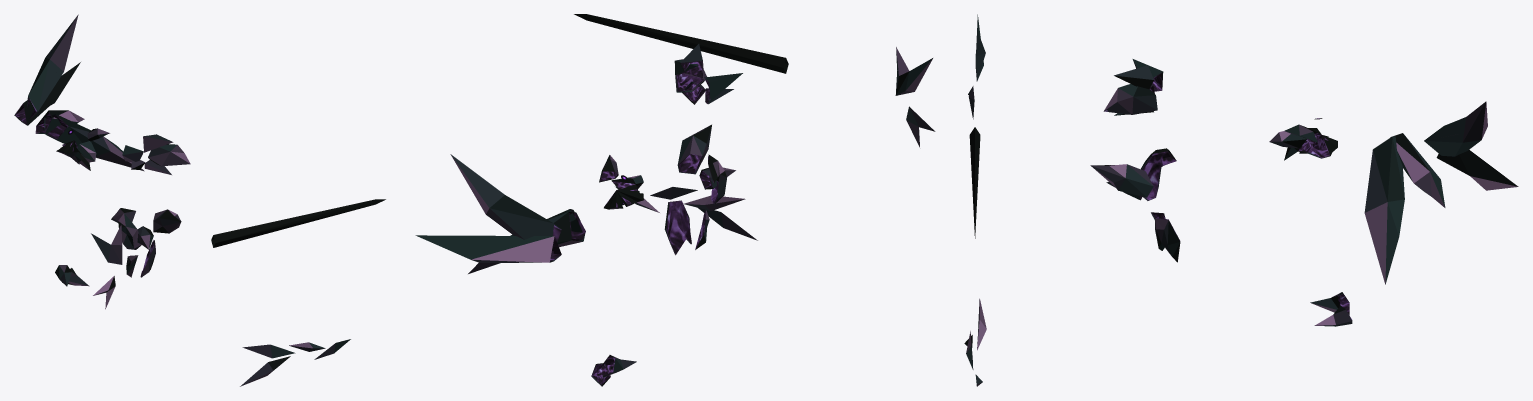
The picture shows the model from 3 angles, left to right: view 1: azimuth 30°, elevation 25°; view 2: azimuth 150°, elevation 25°; view 3: azimuth 270°, elevation 25°; orthographic projection. The views are drawn at different scales.
Visible parts, largest first — view 1: B_0040_3a_1, B_0040_3a_0; view 2: B_0040_3a_1, B_0040_3a_0; view 3: B_0040_3a_1, B_0040_3a_0.
Part boxes in pixels (x1,y1,x2,y2): B_0040_3a_1: (14,14,385,386); B_0040_3a_0: (15,97,153,276); B_0040_3a_1: (415,14,935,386); B_0040_3a_0: (550,61,718,384); B_0040_3a_1: (964,14,1518,386); B_0040_3a_0: (1104,72,1352,320).
Bounding box in the file's own units: 4.24 × 2.92 × 5.52.
2 materials, 2 textured.
